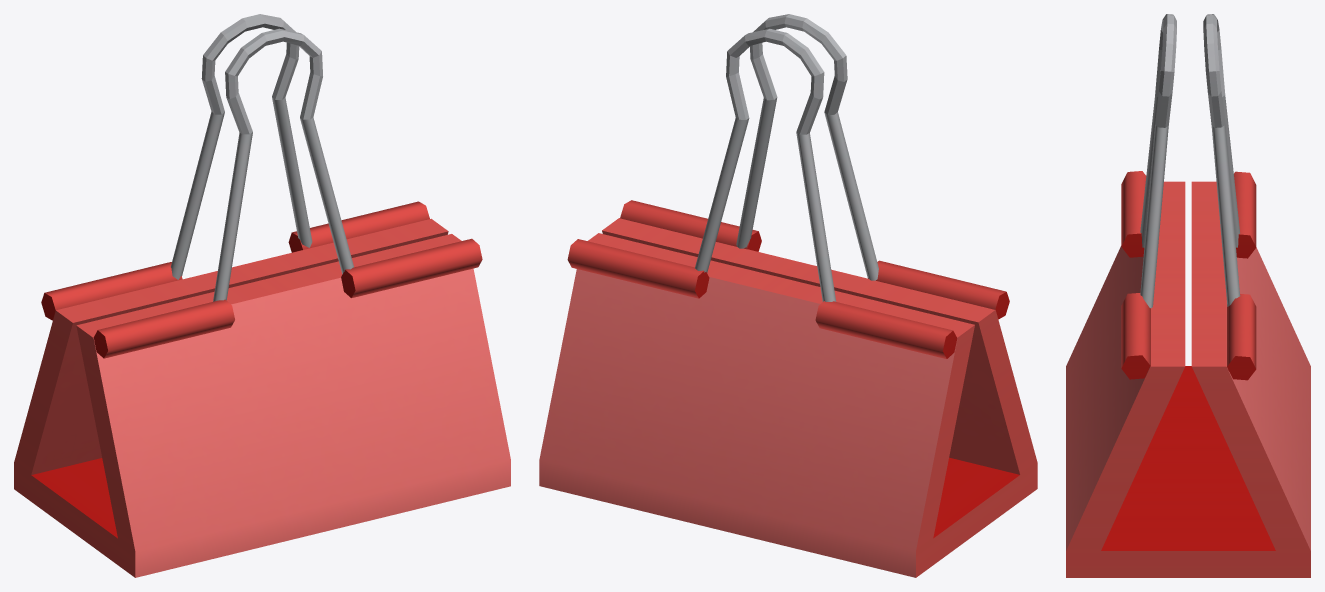
File: SM_Clip.fbx
3 views of the same model, side by side, from view 1: azimuth 30°, elevation 25°; view 2: azimuth 150°, elevation 25°; view 3: azimuth 270°, elevation 25° (orthographic).
Parts seen in each view (by area): view 1: SM_Clip; view 2: SM_Clip; view 3: SM_Clip.
Part boxes in pixels (<box>): SM_Clip: <box>14,14,510,577</box>; SM_Clip: <box>539,14,1037,577</box>; SM_Clip: <box>1066,14,1310,577</box>.
Bounding box in the file's own units: 14.74 × 17.34 × 8.24.
